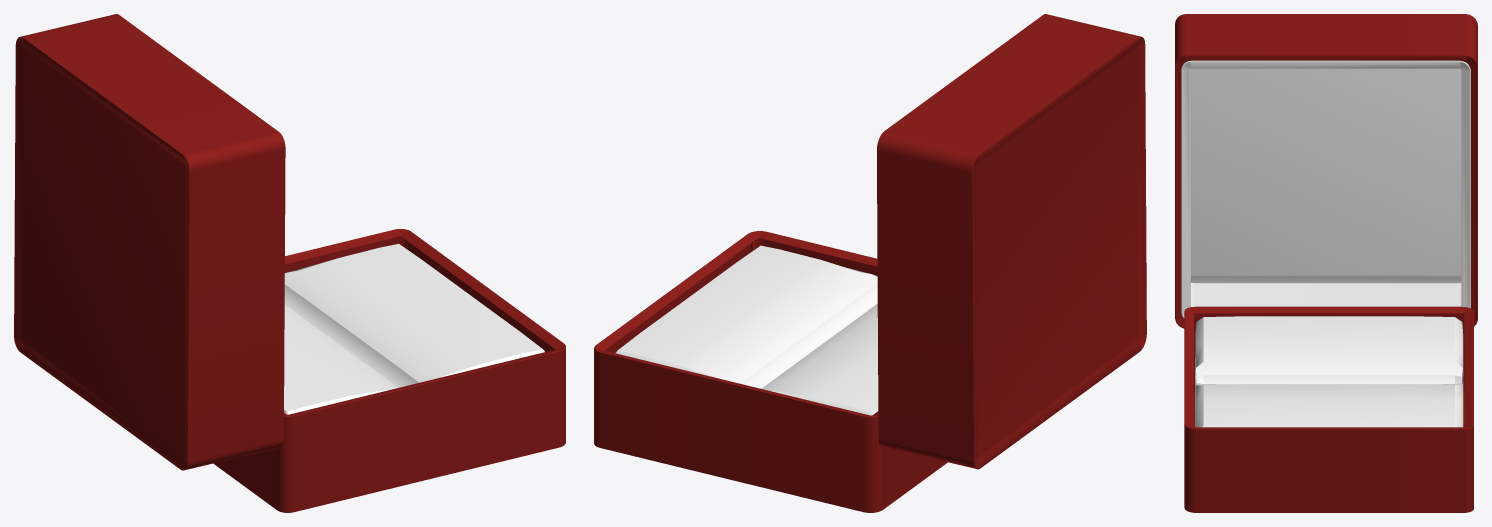
The model's file is ringubox.fbx.
3 renders of one model, left to right at view 1: azimuth 30°, elevation 25°; view 2: azimuth 150°, elevation 25°; view 3: azimuth 270°, elevation 25°, orthographic. The views are drawn at different scales.
Visible parts, largest first — view 1: upper, bottom, Cube.002; view 2: upper, bottom, Cube.002; view 3: upper, bottom, Cube.002.
Boxes of the visible parts, <box> form: upper: <box>14,14,285,470</box>; bottom: <box>213,229,565,512</box>; Cube.002: <box>284,244,544,414</box>; upper: <box>877,14,1146,469</box>; bottom: <box>594,231,947,512</box>; Cube.002: <box>615,245,878,415</box>; upper: <box>1175,14,1477,328</box>; bottom: <box>1184,306,1473,512</box>; Cube.002: <box>1195,316,1463,427</box>.
Bounding box in the file's own units: 629 × 593 × 487.
